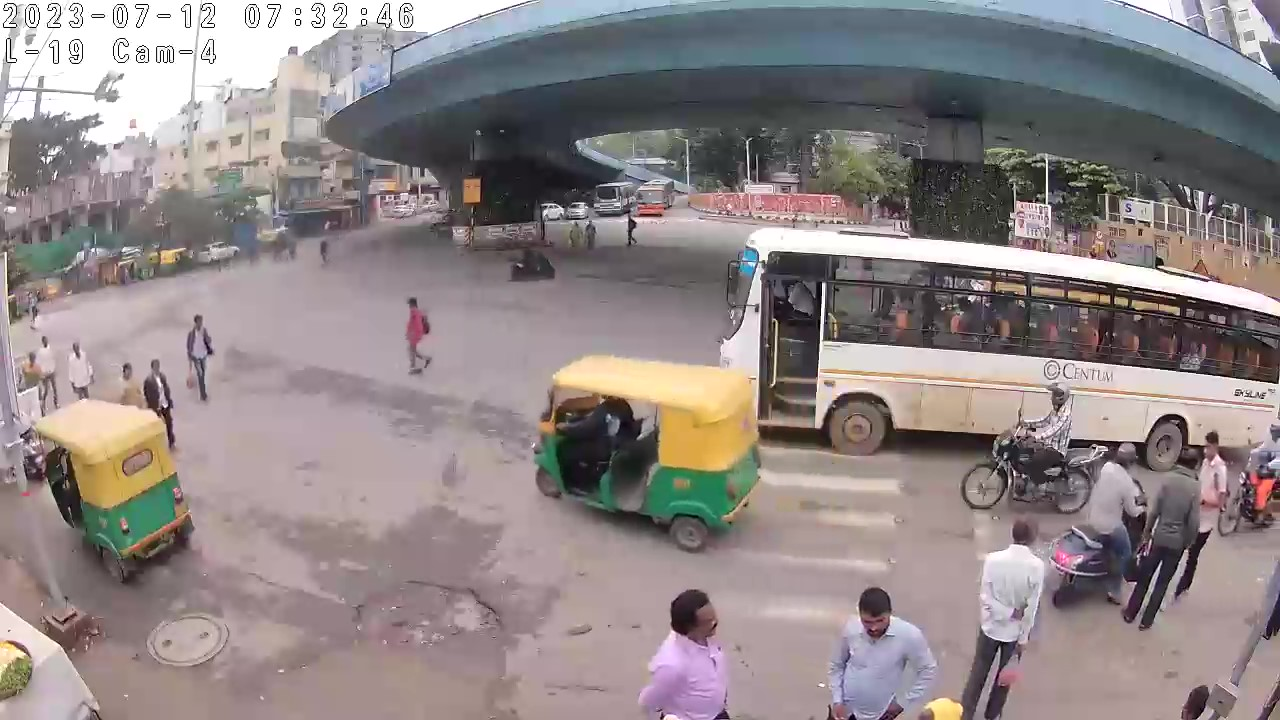Licenseplate: (672, 475, 692, 492)
face: (667, 589, 725, 638), (853, 585, 897, 635), (1176, 680, 1209, 717), (1202, 429, 1221, 458)
